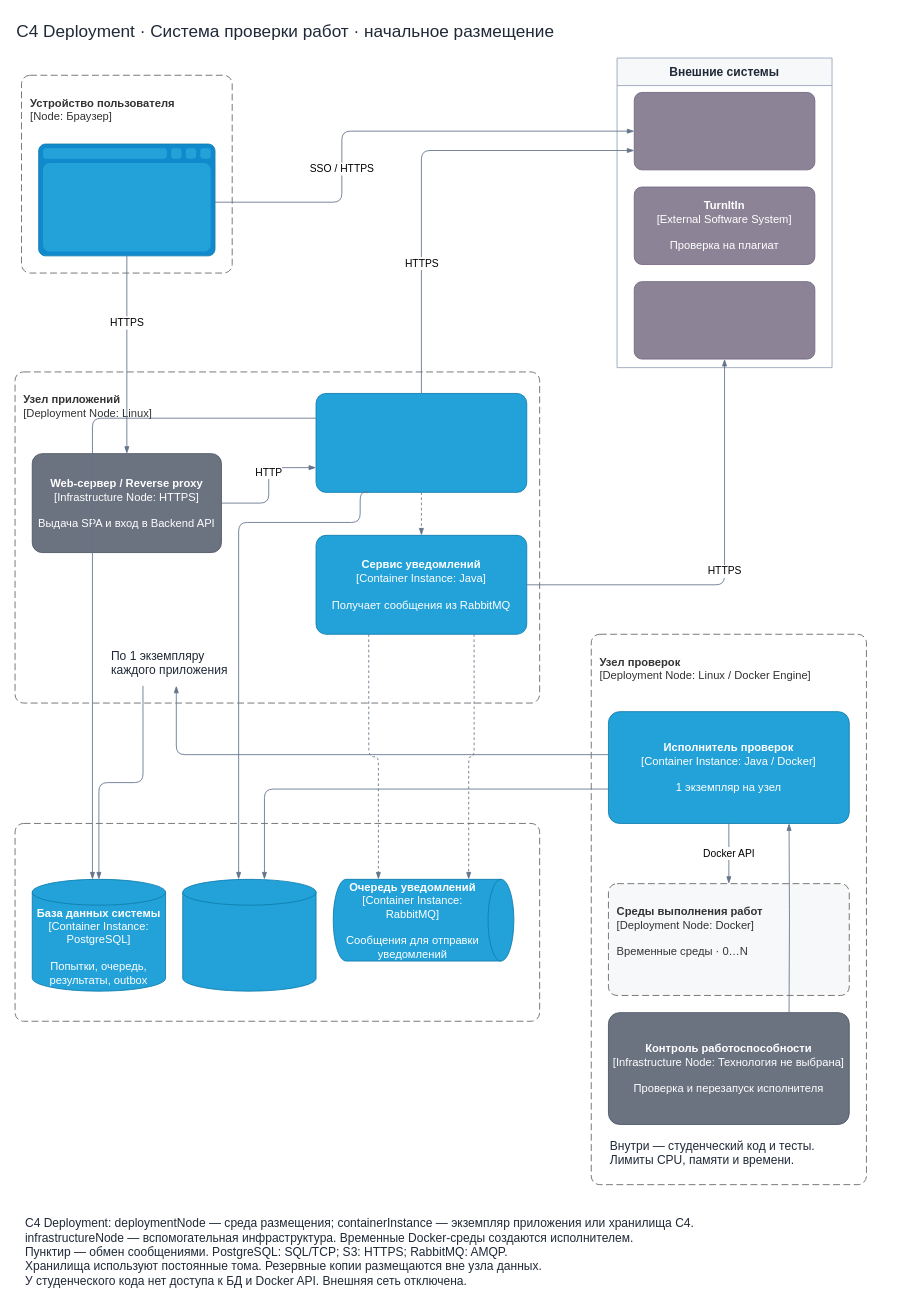
This 899x1306 diagram has some shape labels left out. Each missing label, with the box of its shape:
Backend API [Container Instance: Java] HTTP и фоновые обработчики: (315, 393, 527, 492)
E-mail system [External Software System] Отправка писем: (633, 281, 815, 359)
LMS [External Software System] Вход и передача оценок: (633, 92, 815, 170)
Web-приложение [Container Instance: SPA на Vue] Работает в браузере пользователя: (38, 143, 215, 256)
Узел данных [Deployment Node: Linux]: (14, 823, 540, 1021)
Файловое хранилище [Container Instance: S3 Store] Работы, критерии и логи: (182, 878, 316, 991)
